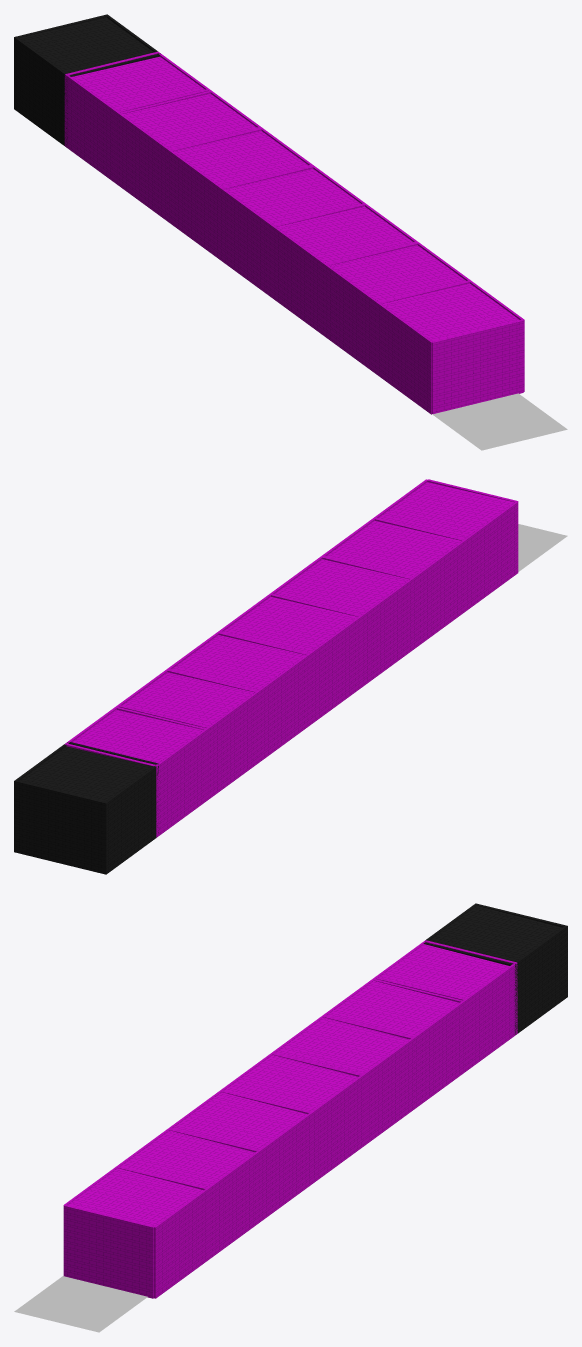
The model's file is floor_3.obj.
3 renders of one model, top to bottom at view 1: azimuth 30°, elevation 25°; view 2: azimuth 150°, elevation 25°; view 3: azimuth 330°, elevation 25°, orthographic.
Parts seen in each view (by area): view 1: Plane, Plane.002_Plane.003, Plane.003_Plane.004, Plane.001_Plane.002, Plane.007_Plane.008, Plane.005_Plane.006, Plane.006_Plane.007, Plane.004_Plane.005, Plane.008_Plane.009; view 2: Plane.007_Plane.008, Plane, Plane.001_Plane.002, Plane.003_Plane.004, Plane.006_Plane.007, Plane.004_Plane.005, Plane.002_Plane.003, Plane.005_Plane.006, Plane.008_Plane.009; view 3: Plane, Plane.007_Plane.008, Plane.005_Plane.006, Plane.001_Plane.002, Plane.002_Plane.003, Plane.003_Plane.004, Plane.004_Plane.005, Plane.006_Plane.007, Plane.008_Plane.009.
Boxes of the visible parts, bbox=[...] form: Plane: bbox=[377, 280, 524, 414]; Plane.002_Plane.003: bbox=[271, 203, 418, 337]; Plane.003_Plane.004: bbox=[219, 164, 365, 297]; Plane.001_Plane.002: bbox=[324, 241, 470, 374]; Plane.007_Plane.008: bbox=[14, 14, 160, 145]; Plane.005_Plane.006: bbox=[115, 89, 261, 220]; Plane.006_Plane.007: bbox=[64, 51, 210, 185]; Plane.004_Plane.005: bbox=[167, 126, 313, 258]; Plane.008_Plane.009: bbox=[432, 393, 567, 450]; Plane.007_Plane.008: bbox=[14, 742, 159, 874]; Plane: bbox=[373, 479, 518, 611]; Plane.001_Plane.002: bbox=[320, 518, 465, 650]; Plane.003_Plane.004: bbox=[218, 593, 361, 725]; Plane.006_Plane.007: bbox=[64, 705, 209, 837]; Plane.004_Plane.005: bbox=[165, 631, 310, 763]; Plane.002_Plane.003: bbox=[269, 555, 413, 687]; Plane.005_Plane.006: bbox=[114, 668, 257, 800]; Plane.008_Plane.009: bbox=[518, 524, 567, 571]; Plane: bbox=[63, 1166, 209, 1298]; Plane.007_Plane.008: bbox=[423, 903, 567, 1034]; Plane.005_Plane.006: bbox=[322, 977, 467, 1108]; Plane.001_Plane.002: bbox=[116, 1127, 261, 1259]; Plane.002_Plane.003: bbox=[169, 1090, 313, 1220]; Plane.003_Plane.004: bbox=[220, 1052, 365, 1182]; Plane.004_Plane.005: bbox=[271, 1014, 416, 1144]; Plane.006_Plane.007: bbox=[373, 940, 517, 1069]; Plane.008_Plane.009: bbox=[14, 1276, 147, 1332].
Bounding box in the file's own units: 6.44 × 4.75 × 55.84.
37 materials, 36 textured.
